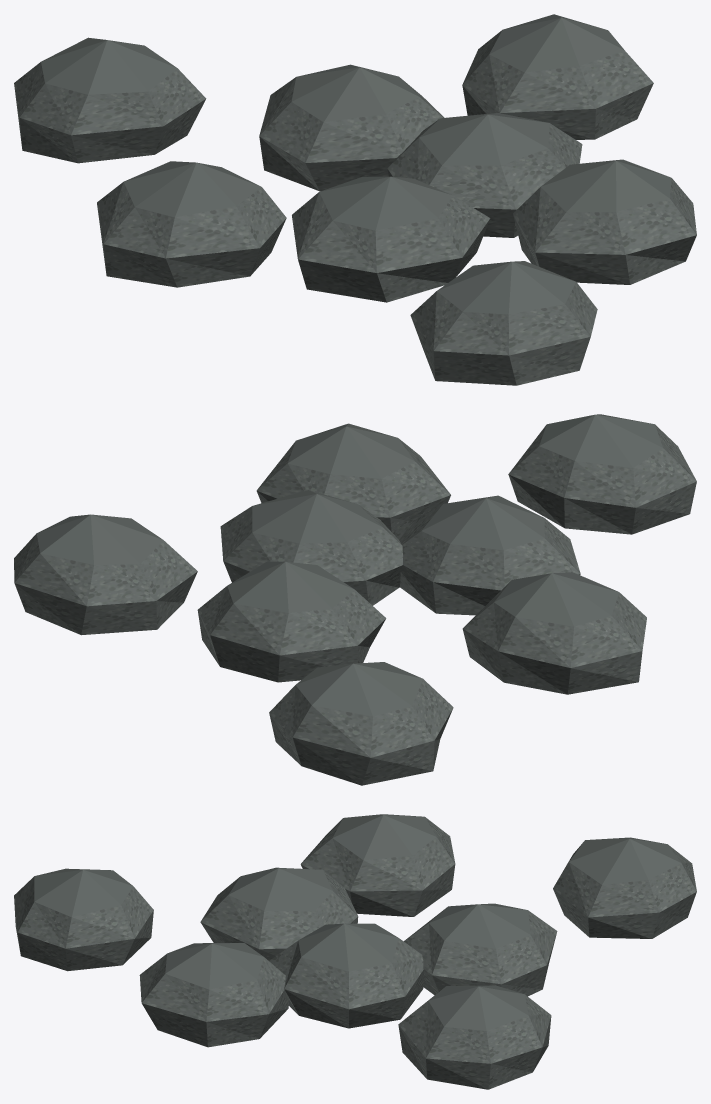
File: en-019_signal_hill_dressing_set__stones.obj
The picture shows the model from 3 angles, top to bottom: view 1: azimuth 30°, elevation 25°; view 2: azimuth 150°, elevation 25°; view 3: azimuth 270°, elevation 25°; orthographic projection. The views are drawn at different scales.
Parts seen in each view (by area): view 1: en-019_signal_hill_dressing_set__stones; view 2: en-019_signal_hill_dressing_set__stones; view 3: en-019_signal_hill_dressing_set__stones.
Boxes of the visible parts, bbox=[...] form: en-019_signal_hill_dressing_set__stones: bbox=[14, 14, 696, 385]; en-019_signal_hill_dressing_set__stones: bbox=[14, 414, 696, 785]; en-019_signal_hill_dressing_set__stones: bbox=[14, 814, 696, 1089].
Size of the model in its own units: 1.1 by 0.1638 by 1.33.
Materials: 1 (1 with a texture image).
